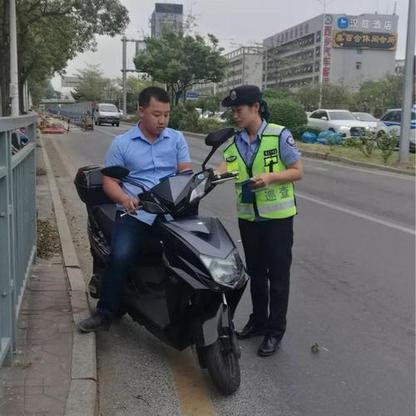target: (75, 83, 248, 391)
